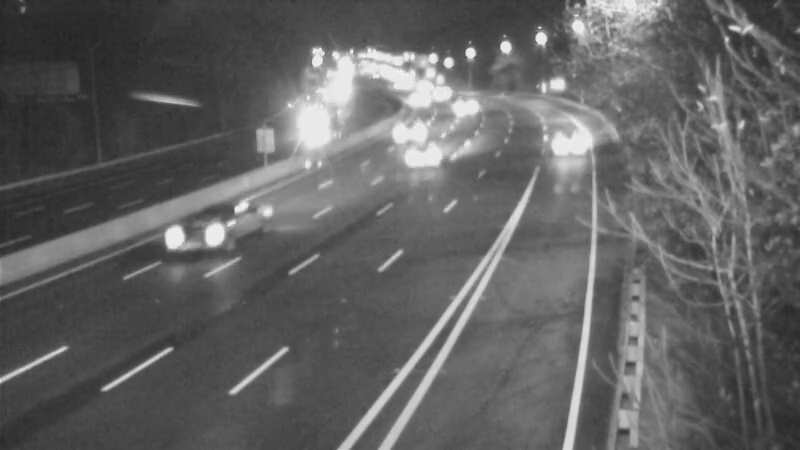vehicle: (385, 111, 465, 191), (161, 200, 241, 280), (419, 63, 469, 113), (389, 72, 439, 122), (441, 78, 491, 128), (534, 122, 584, 172), (383, 94, 433, 144), (282, 99, 332, 149)
